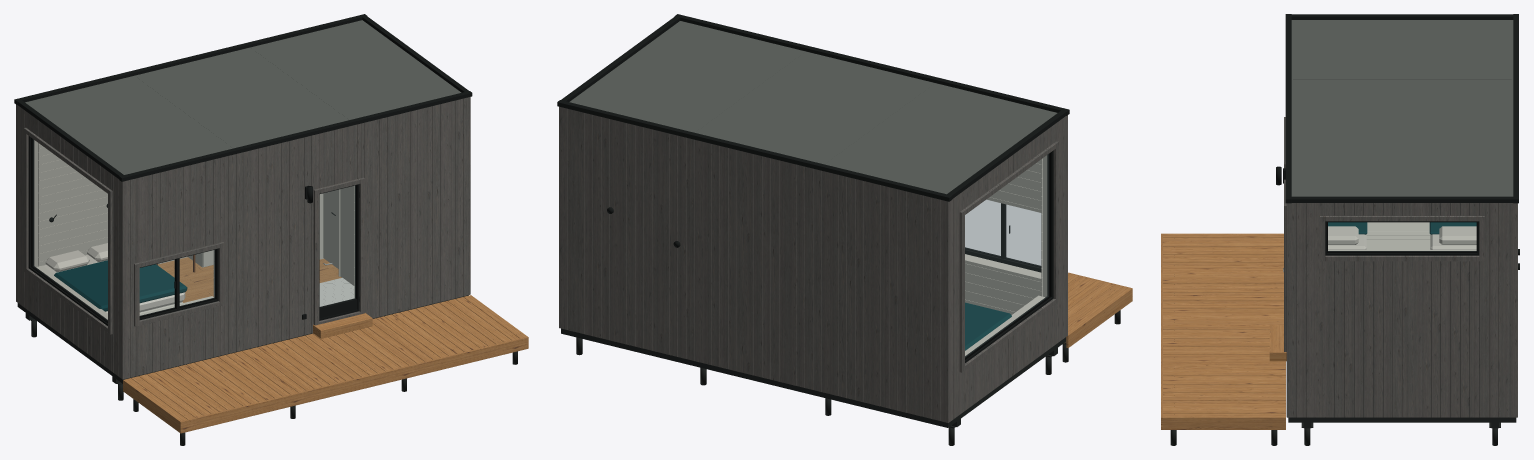
File: Campingdom22.glb
The picture shows the model from 3 angles, left to right: view 1: azimuth 30°, elevation 25°; view 2: azimuth 150°, elevation 25°; view 3: azimuth 270°, elevation 25°; orthographic projection. The views are drawn at different scales.
Visible parts, largest first — view 1: 02_Facade__F01_Charcoal_pine_20x140, 04_Roof__R01_Grey_PVC_membrane, 05_Terrace__T01_Warm_oiled_pine_deck, 03_Windows_Doors__G01_Clear_grey_glazing, 07_Interior__I01_Whitewashed_timber, 03_Windows_Doors__F01_Charcoal_pine_20x140, 04_Roof__M01_Anthracite_frames, 03_Windows_Doors__M01_Anthracite_frames, 08_Furniture__FU07_Deep_teal_cotton, 07_Interior__I03_Natural_oak_floor, 08_Furniture__FU03_Natural_white_bedding, 03_Windows_Doors__M02_Glazing_gasket (+4 smaller); view 2: 02_Facade__F01_Charcoal_pine_20x140, 04_Roof__R01_Grey_PVC_membrane, 03_Windows_Doors__G01_Clear_grey_glazing, 04_Roof__M01_Anthracite_frames, 07_Interior__I01_Whitewashed_timber, 03_Windows_Doors__F01_Charcoal_pine_20x140, 05_Terrace__T01_Warm_oiled_pine_deck, 01_Structure__S01_Black_steel_piles, 03_Windows_Doors__M01_Anthracite_frames, 08_Furniture__FU07_Deep_teal_cotton, 03_Windows_Doors__M02_Glazing_gasket, 06_Foundation__S01_Black_steel_piles (+1 smaller); view 3: 02_Facade__F01_Charcoal_pine_20x140, 04_Roof__R01_Grey_PVC_membrane, 05_Terrace__T01_Warm_oiled_pine_deck, 04_Roof__M01_Anthracite_frames, 03_Windows_Doors__G01_Clear_grey_glazing, 03_Windows_Doors__F01_Charcoal_pine_20x140, 07_Interior__I01_Whitewashed_timber, 02_Facade__F02_Shadow_in_timber_joints, 08_Furniture__FU03_Natural_white_bedding, 01_Structure__S01_Black_steel_piles, 03_Windows_Doors__M01_Anthracite_frames, 08_Furniture__FU07_Deep_teal_cotton (+2 smaller).
Part boxes in pixels (<box>): 02_Facade__F01_Charcoal_pine_20x140: <box>16,97,470,379</box>; 04_Roof__R01_Grey_PVC_membrane: <box>25,20,461,174</box>; 05_Terrace__T01_Warm_oiled_pine_deck: <box>123,295,528,433</box>; 03_Windows_Doors__G01_Clear_grey_glazing: <box>33,139,355,320</box>; 07_Interior__I01_Whitewashed_timber: <box>36,143,354,319</box>; 03_Windows_Doors__F01_Charcoal_pine_20x140: <box>24,127,364,334</box>; 04_Roof__M01_Anthracite_frames: <box>14,14,472,181</box>; 03_Windows_Doors__M01_Anthracite_frames: <box>28,136,359,325</box>; 08_Furniture__FU07_Deep_teal_cotton: <box>54,260,187,311</box>; 07_Interior__I03_Natural_oak_floor: <box>158,257,341,302</box>; 08_Furniture__FU03_Natural_white_bedding: <box>43,243,185,313</box>; 03_Windows_Doors__M02_Glazing_gasket: <box>31,137,357,322</box>; 02_Facade__F01_Charcoal_pine_20x140: <box>559,106,1067,422</box>; 04_Roof__R01_Grey_PVC_membrane: <box>569,21,1057,194</box>; 03_Windows_Doors__G01_Clear_grey_glazing: <box>965,154,1048,357</box>; 04_Roof__M01_Anthracite_frames: <box>557,14,1069,201</box>; 07_Interior__I01_Whitewashed_timber: <box>965,158,1044,355</box>; 03_Windows_Doors__F01_Charcoal_pine_20x140: <box>959,141,1058,372</box>; 05_Terrace__T01_Warm_oiled_pine_deck: <box>1066,272,1132,347</box>; 01_Structure__S01_Black_steel_piles: <box>561,328,1065,427</box>; 03_Windows_Doors__M01_Anthracite_frames: <box>965,150,1053,362</box>; 08_Furniture__FU07_Deep_teal_cotton: <box>965,302,1011,350</box>; 03_Windows_Doors__M02_Glazing_gasket: <box>965,152,1051,359</box>; 06_Foundation__S01_Black_steel_piles: <box>576,310,1120,445</box>; 02_Facade__F01_Charcoal_pine_20x140: <box>1286,203,1517,417</box>; 04_Roof__R01_Grey_PVC_membrane: <box>1291,20,1513,196</box>; 05_Terrace__T01_Warm_oiled_pine_deck: <box>1161,233,1286,429</box>; 04_Roof__M01_Anthracite_frames: <box>1285,14,1518,203</box>; 03_Windows_Doors__G01_Clear_grey_glazing: <box>1328,222,1476,251</box>; 03_Windows_Doors__F01_Charcoal_pine_20x140: <box>1284,117,1484,351</box>; 07_Interior__I01_Whitewashed_timber: <box>1328,222,1476,250</box>; 02_Facade__F02_Shadow_in_timber_joints: <box>1334,203,1479,416</box>; 08_Furniture__FU03_Natural_white_bedding: <box>1328,226,1476,249</box>; 01_Structure__S01_Black_steel_piles: <box>1288,417,1516,422</box>; 03_Windows_Doors__M01_Anthracite_frames: <box>1325,221,1479,255</box>; 08_Furniture__FU07_Deep_teal_cotton: <box>1328,222,1476,234</box>.
Bounding box in the file's own units: 6.39 × 4 × 5.2.
20 materials, 3 textured.
